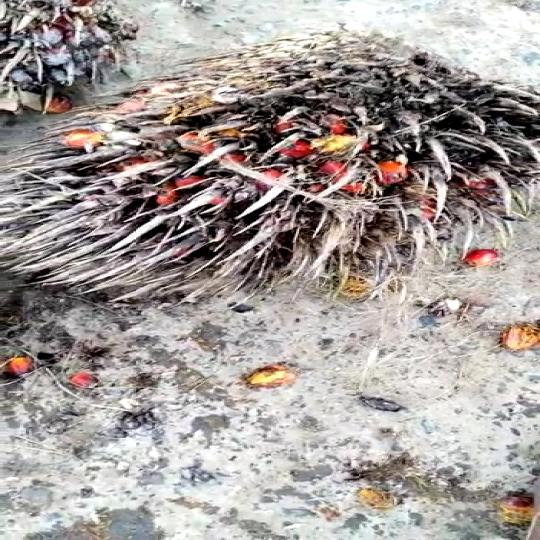terlalu masak: (0, 29, 540, 340)
